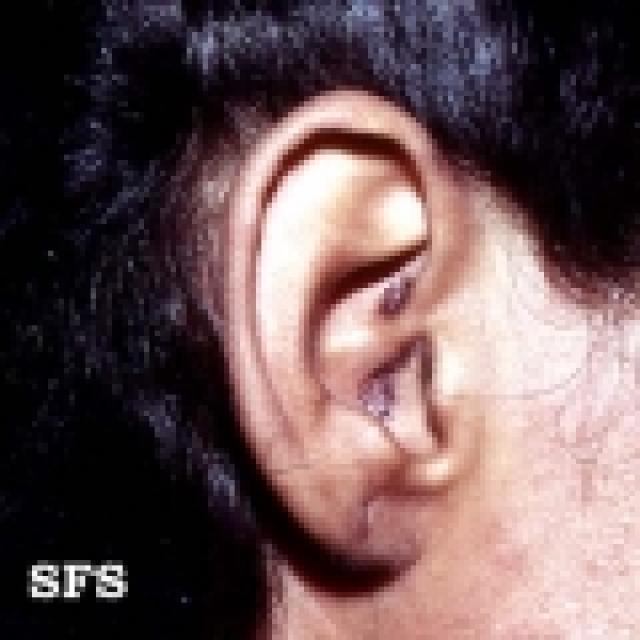lupus: (301, 216, 498, 472)
